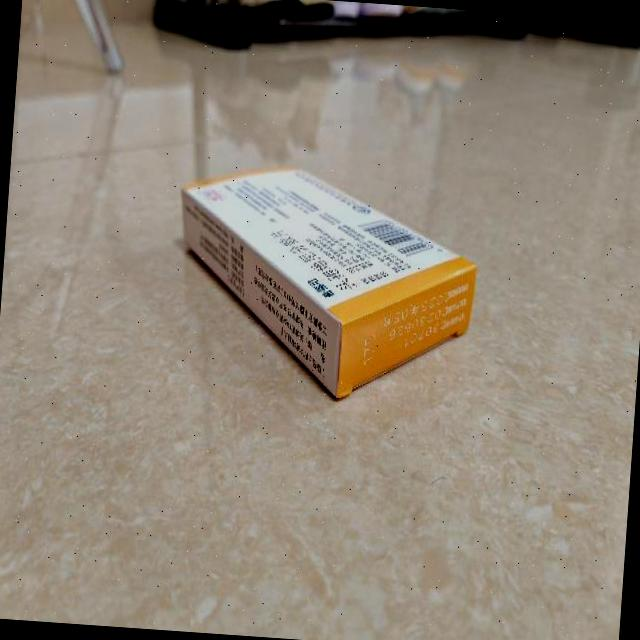box: (168, 156, 482, 408)
